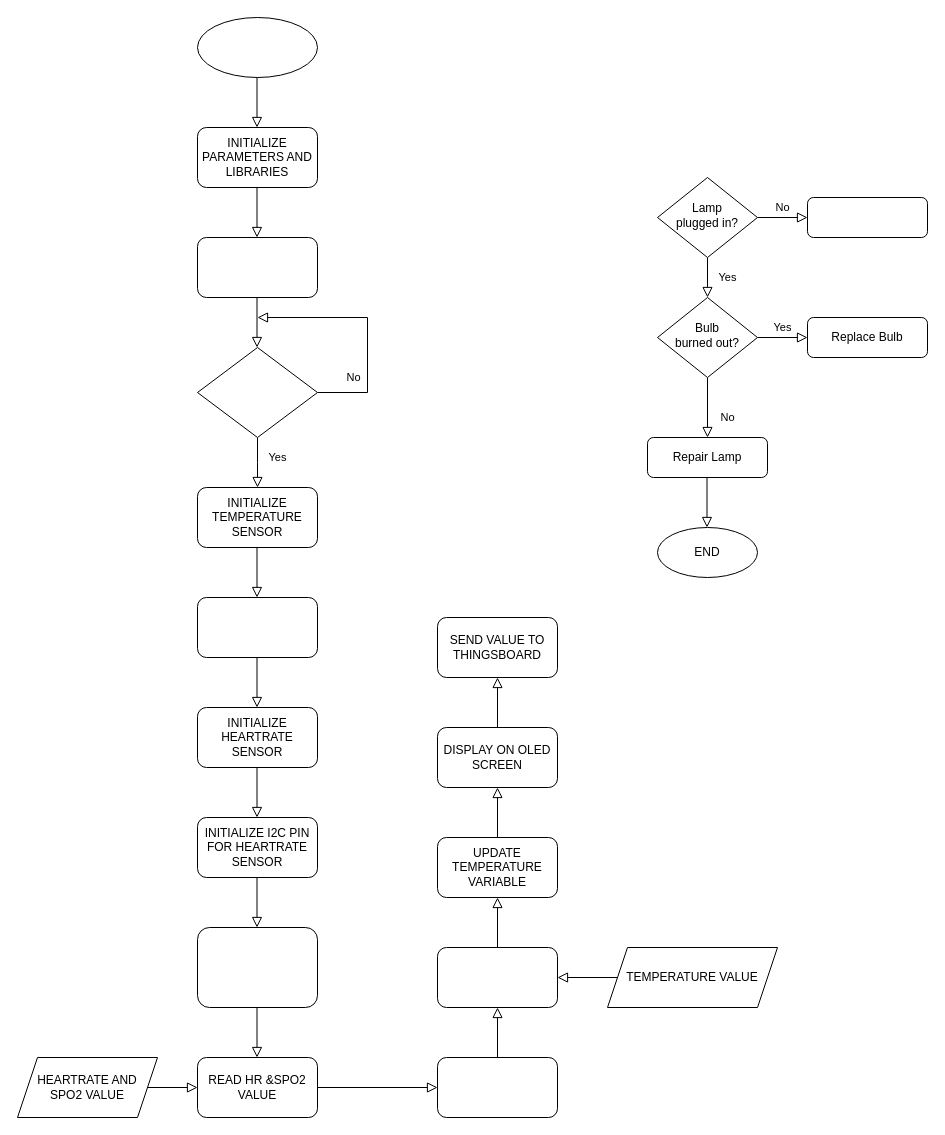
This 945x1135 diagram has some shape labels left out. The shapes that lost their labels are listed below. From the top down, each one's centre as x and y in pixels, then its label:
At point (257, 47): "START".
At point (867, 217): "Plug in lamp".
At point (257, 267): "INITIALIZE WIFI".
At point (257, 392): "IS WIFI CONNECTED?".
At point (257, 627): "INITIALIZE OLED SCREEN".
At point (257, 967): "DECLARE INTEGER AND FLOAT VARIABLE FOR HR, SPO2 AND TEMPERATURE".
At point (497, 977): "READ TEMPERATURE VALUE".
At point (497, 1087): "UPDATE HR & SPO2 VARIABLE".
